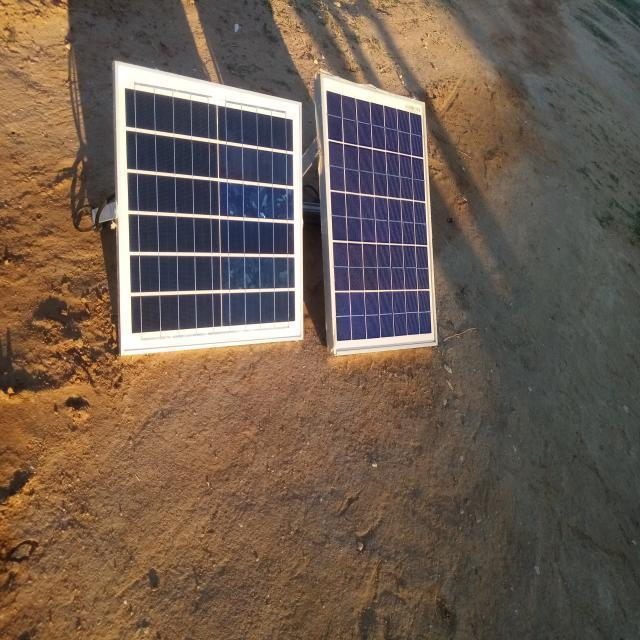Normal Solar Panel: (115, 65, 302, 353), (320, 72, 436, 351)
